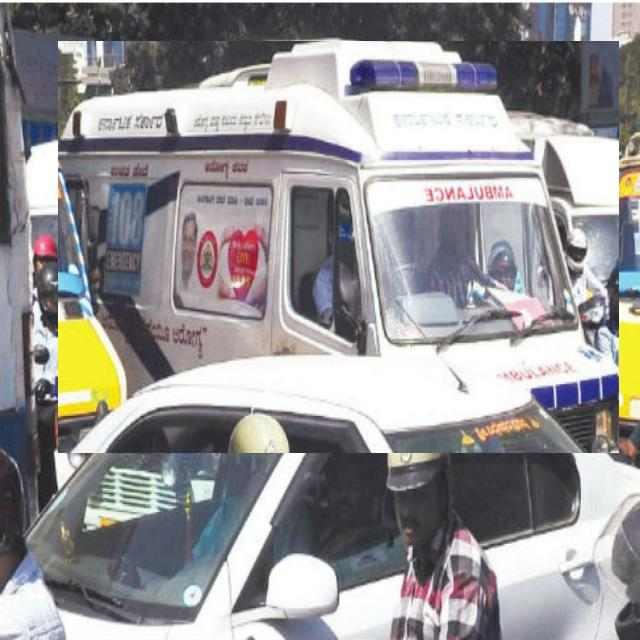car: (29, 358, 640, 639)
emergency: (58, 41, 619, 453)
